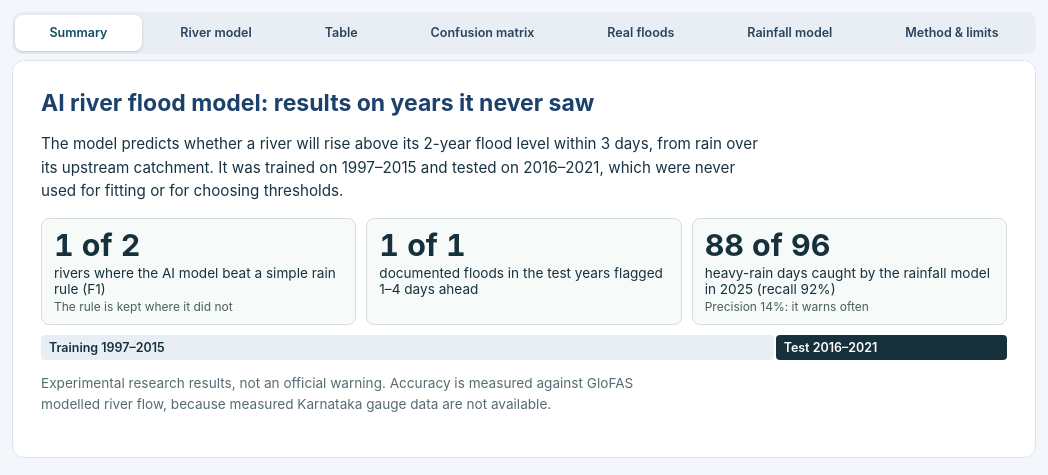
shows the recorded results: summary, per-river table, confusion matrices and documented floods
This screenshot has width=1048, height=475.
Expected: the text "1 of 2" is shown, [54,227,140,263]
Expected: the text "rivers where the AI model beat a simple rain rule (F1)" is shown, [54,264,343,296]
Step 1. Click the tab "Table" → coordinates (341, 33), box [290,15,392,51]
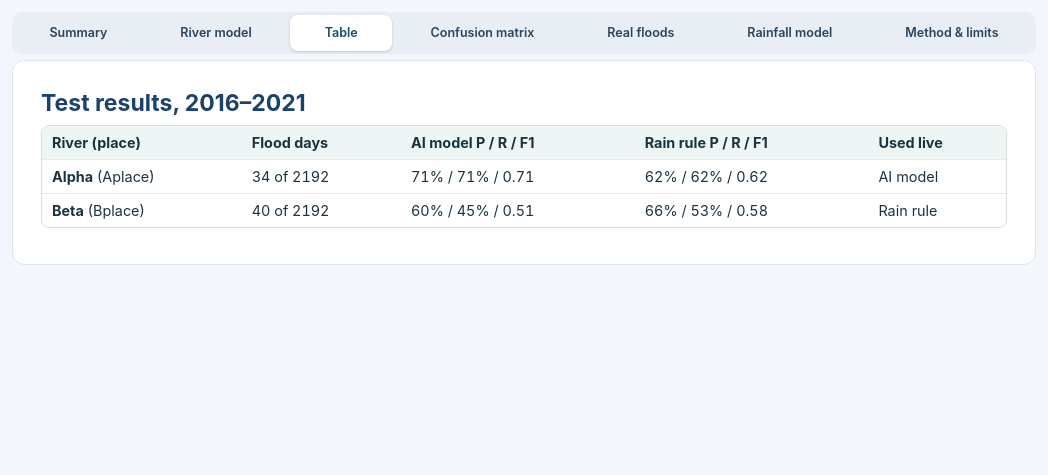
Now the row that starts with "Alpha" shows "71% / 71% / 0.71", box [42,160,1006,194]
Now the row that starts with "Beta" shows "Rain rule", box [878,202,938,219]
Step 2. Click the tab "Confusion matrix" → coordinates (482, 33), box [396,15,569,51]
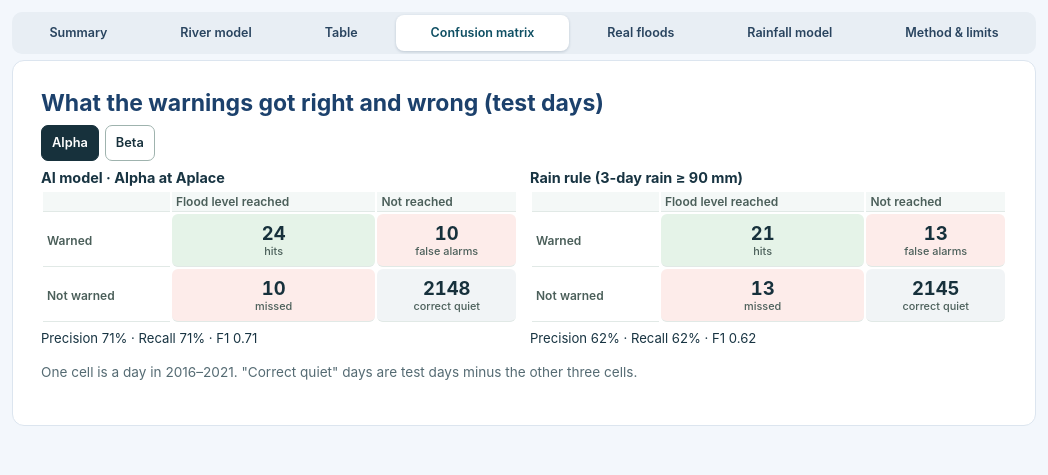
Step 3. Click the button "Beta" → coordinates (130, 143), box [105,125,155,161]
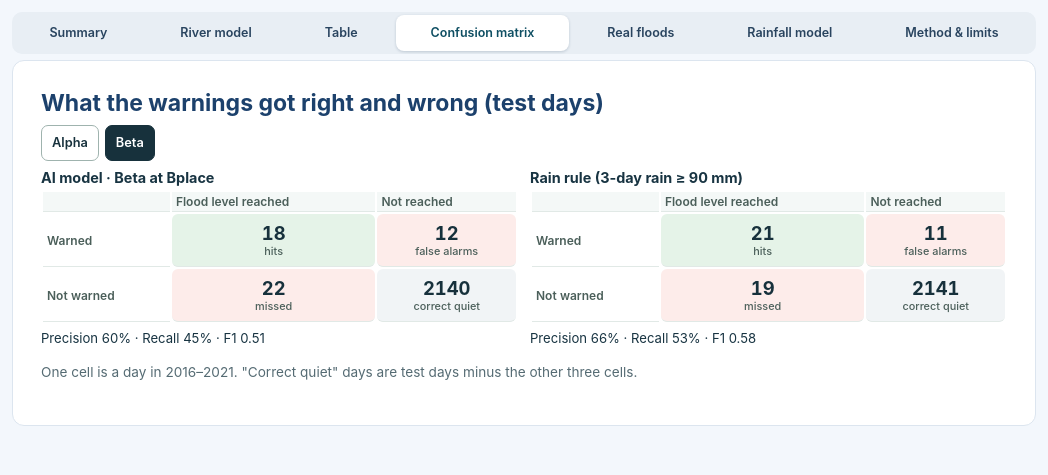
Step 4. Click the tab "Real floods" → coordinates (641, 33), box [573,15,709,51]
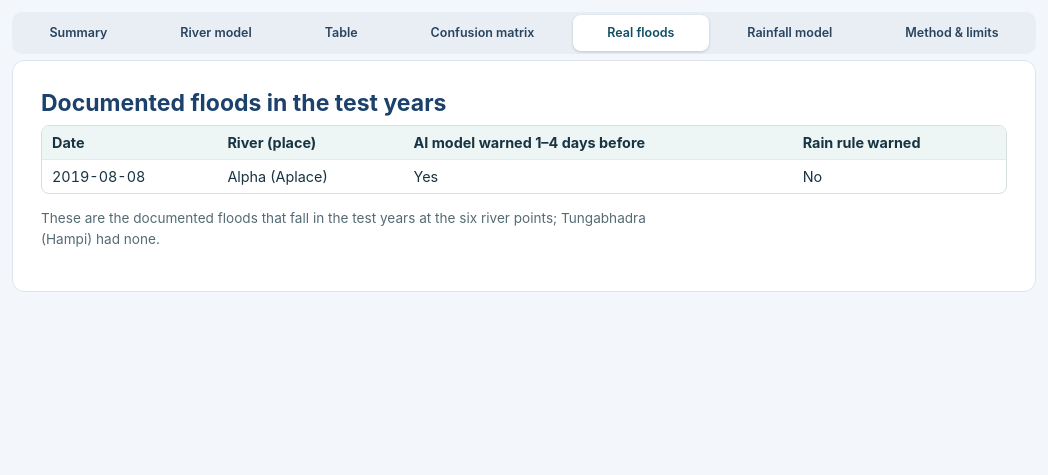
Now the table shows "2019-08-08", box [52,168,145,185]
Step 5. Click the tab "Rainfall model" → coordinates (790, 33), box [713,15,867,51]
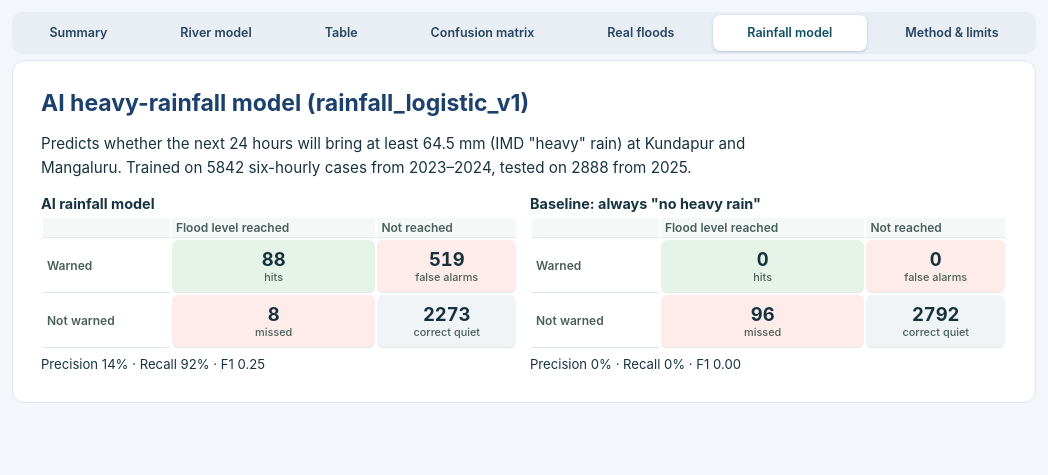
Step 6. Click the tab "River model" → coordinates (216, 33), box [146,15,286,51]
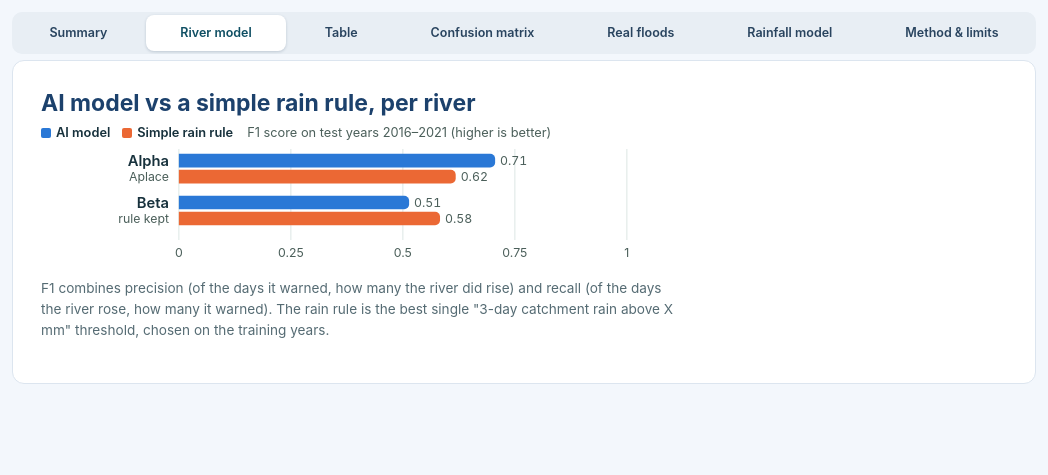
Now the picture named "F1 score per river" is shown, box [41,144,681,265]
